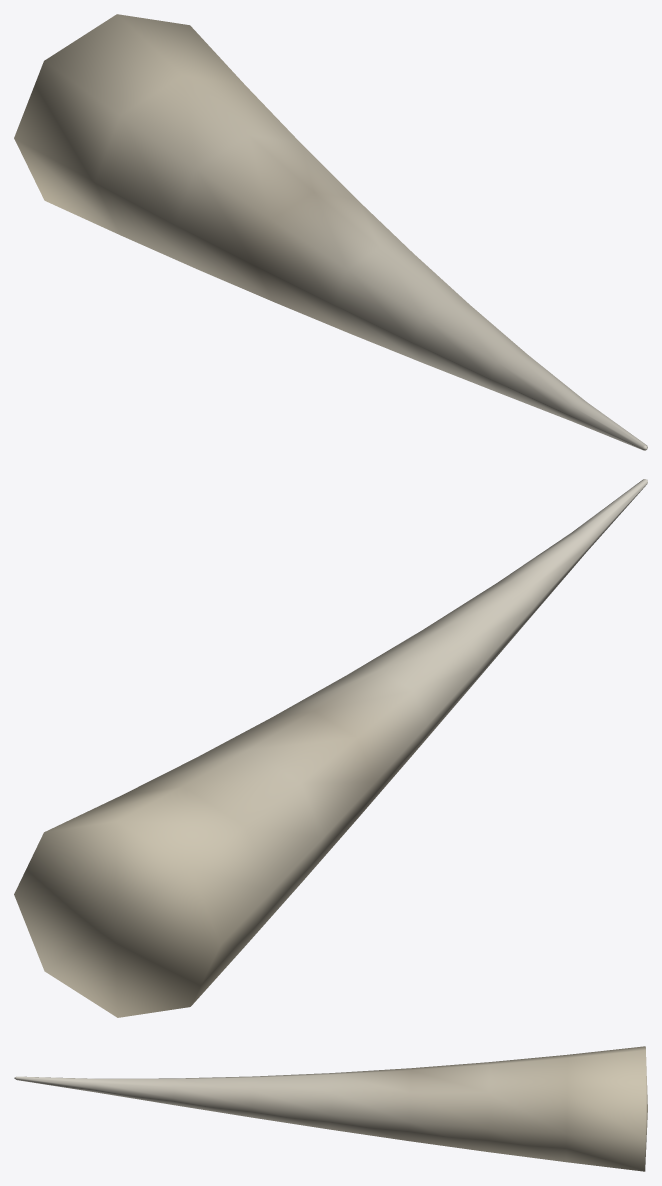
File: bone-tooth-a.glb
3 views of the same model, one above another, from view 1: azimuth 30°, elevation 25°; view 2: azimuth 150°, elevation 25°; view 3: azimuth 270°, elevation 25° (orthographic). The views are drawn at different scales.
Visible parts, largest first — view 1: bone-tooth-a; view 2: bone-tooth-a; view 3: bone-tooth-a.
Part boxes in pixels (x1=…): bone-tooth-a: x1=14, y1=14, x2=647, y2=450; bone-tooth-a: x1=14, y1=479, x2=647, y2=1017; bone-tooth-a: x1=14, y1=1046, x2=647, y2=1171.
Size of the model in its own units: 0.226 by 0.206 by 1.01.
